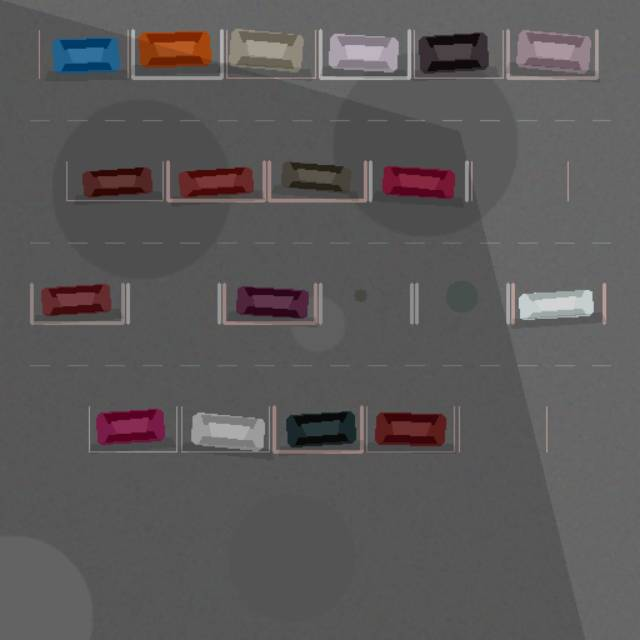space-empty: (459, 406, 546, 451), (471, 161, 567, 200), (416, 284, 508, 323), (128, 284, 219, 323), (320, 284, 411, 323)
space-occupied: (39, 30, 128, 77), (132, 30, 221, 77), (226, 30, 315, 77), (320, 30, 409, 77), (414, 30, 502, 77), (508, 30, 596, 77), (181, 406, 269, 451), (366, 406, 454, 451), (89, 406, 176, 451), (274, 406, 361, 451), (66, 161, 163, 200), (167, 161, 264, 200), (269, 161, 365, 200), (370, 161, 466, 200), (512, 284, 604, 323), (31, 284, 122, 323), (224, 284, 315, 323)
